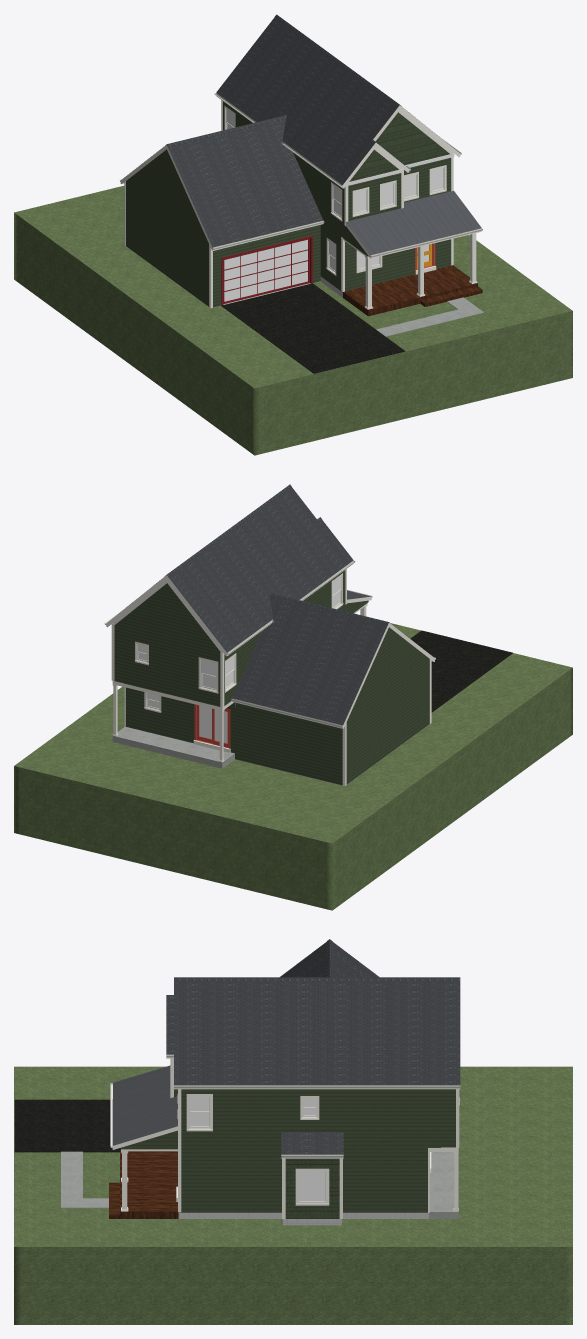
The model's file is house.dae.
3 views of the same model, one above another, from view 1: azimuth 30°, elevation 25°; view 2: azimuth 150°, elevation 25°; view 3: azimuth 270°, elevation 25° (orthographic). The views are drawn at different scales.
Parts seen in each view (by area): view 1: geo_132, geo_131, geo_137, geo_163, geo_11, geo_127, geo_140, geo_139, geo_138, geo_68, geo_61; view 2: geo_132, geo_131, geo_137, geo_11, geo_163, geo_61, geo_127, geo_136, geo_161; view 3: geo_132, geo_131, geo_137, geo_11, geo_163, geo_139, geo_140, geo_61, geo_138, geo_53, geo_127.
Boxes of the visible parts, box(x1,y1,x2,y2) form: geo_132: box(14, 185, 572, 455); geo_131: box(141, 14, 442, 247); geo_137: box(126, 101, 450, 307); geo_163: box(221, 283, 405, 373); geo_11: box(120, 93, 482, 309); geo_127: box(224, 109, 443, 301); geo_140: box(346, 191, 481, 254); geo_139: box(343, 265, 482, 316); geo_138: box(349, 112, 449, 181); geo_68: box(221, 235, 312, 305); geo_61: box(376, 297, 483, 336); geo_132: box(14, 623, 572, 910); geo_131: box(127, 484, 408, 725); geo_137: box(114, 570, 429, 785); geo_11: box(104, 560, 435, 785); geo_163: box(410, 630, 512, 712); geo_61: box(112, 727, 234, 768); geo_127: box(138, 577, 340, 743); geo_136: box(112, 603, 367, 752); geo_161: box(194, 704, 230, 748); geo_132: box(14, 1066, 572, 1324); geo_131: box(166, 939, 460, 1154); geo_137: box(120, 1089, 455, 1212); geo_11: box(110, 1054, 460, 1218); geo_163: box(14, 1099, 120, 1152); geo_139: box(109, 1149, 178, 1218); geo_140: box(112, 1065, 177, 1145); geo_61: box(61, 1151, 458, 1218); geo_138: box(285, 1158, 339, 1218); geo_53: box(178, 1212, 428, 1225); geo_127: box(190, 1097, 325, 1201).
Size of the model in its own units: 696 by 911 by 519.
Materials: 51 (25 with a texture image).
